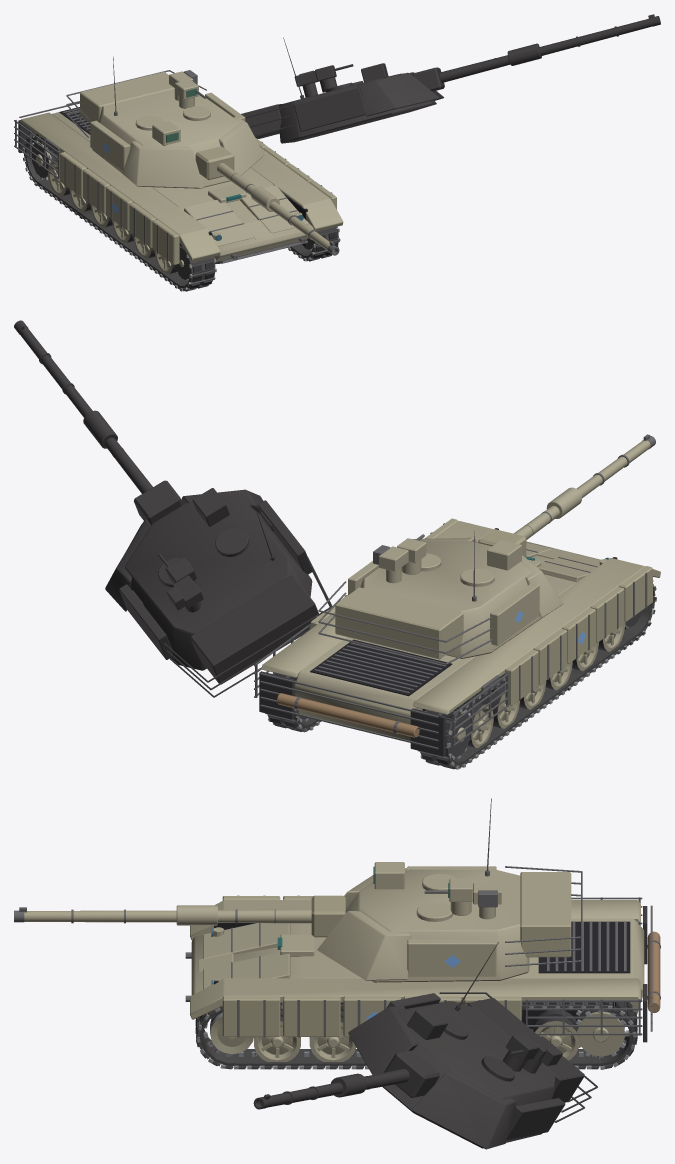
File: tank__t_90m_proryv.glb
3 renders of one model, top to bottom at view 1: azimuth 30°, elevation 25°; view 2: azimuth 150°, elevation 25°; view 3: azimuth 270°, elevation 25°, orthographic. The views are drawn at different scales.
Visible parts, largest first — view 1: Hull_Mesh, Turret_Mesh, Wreck, Track_L_Mesh, Gun_Mesh, Track_R_Mesh, Gunner_Sight_Mesh, CITV_Mesh, Sprocket_L_Mesh; view 2: Wreck, Hull_Mesh, Turret_Mesh, Track_L_Mesh, Gun_Mesh, CROWS_Mesh, Gunner_Sight_Mesh, Wheel_L1_Mesh, Wheel_L0_Mesh, CITV_Mesh, Track_R_Mesh; view 3: Hull_Mesh, Wreck, Turret_Mesh, Gun_Mesh, Track_R_Mesh, Sprocket_R_Mesh, Wheel_R0_Mesh, Wheel_R5_Mesh, Wheel_R4_Mesh, CROWS_Mesh, Gunner_Sight_Mesh, CITV_Mesh (+2 smaller).
Part boxes in pixels (left/top/right/bottom): Hull_Mesh: left=14, top=102, right=343, bottom=264; Turret_Mesh: left=66, top=70, right=264, bottom=188; Wreck: left=23, top=14, right=660, bottom=290; Track_L_Mesh: left=22, top=133, right=216, bottom=291; Gun_Mesh: left=195, top=146, right=339, bottom=255; Track_R_Mesh: left=288, top=227, right=340, bottom=261; Gunner_Sight_Mesh: left=152, top=121, right=180, bottom=145; CITV_Mesh: left=175, top=79, right=198, bottom=108; Sprocket_L_Mesh: left=31, top=139, right=57, bottom=180; Wreck: left=14, top=320, right=656, bottom=767; Hull_Mesh: left=254, top=518, right=660, bottom=756; Turret_Mesh: left=318, top=537, right=563, bottom=664; Track_L_Mesh: left=418, top=584, right=656, bottom=769; Gun_Mesh: left=478, top=434, right=655, bottom=557; CROWS_Mesh: left=373, top=534, right=424, bottom=583; Gunner_Sight_Mesh: left=487, top=540, right=521, bottom=570; Wheel_L1_Mesh: left=476, top=682, right=519, bottom=728; Wheel_L0_Mesh: left=466, top=702, right=493, bottom=748; CITV_Mesh: left=397, top=538, right=426, bottom=574; Track_R_Mesh: left=265, top=672, right=320, bottom=732; Hull_Mesh: left=185, top=895, right=660, bottom=1042; Wreck: left=195, top=942, right=637, bottom=1149; Turret_Mesh: left=317, top=866, right=582, bottom=982; Gun_Mesh: left=14, top=895, right=345, bottom=937; Track_R_Mesh: left=195, top=1001, right=637, bottom=1069; Sprocket_R_Mesh: left=576, top=1010, right=628, bottom=1059; Wheel_R0_Mesh: left=532, top=1010, right=579, bottom=1060; Wheel_R5_Mesh: left=254, top=1010, right=300, bottom=1061; Wheel_R4_Mesh: left=309, top=1010, right=356, bottom=1061; CROWS_Mesh: left=424, top=883, right=501, bottom=919; Gunner_Sight_Mesh: left=373, top=862, right=404, bottom=889; CITV_Mesh: left=448, top=878, right=472, bottom=915.
Size of what is drawn, in the model's own units: 11.55 by 3.36 by 9.87.
